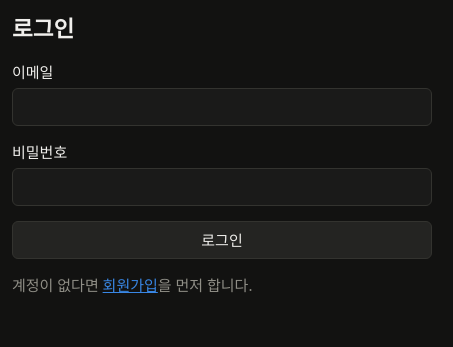
Test case: LoginPage › 401이면 어느 칸이 틀렸는지 알려 주지 않는 메시지를 보여 주고 비밀번호를 지운다
Type "reader@example.com" into the field labelled "이메일" at (222, 107), box [12,88,432,126]
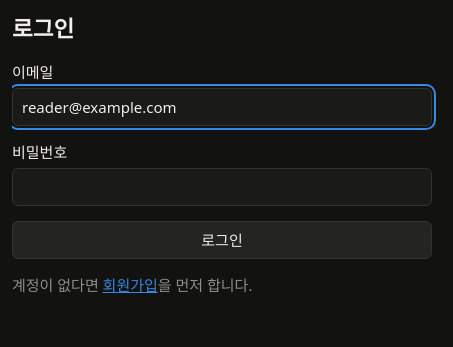
Type "wrong" into the password field labelled "비밀번호" at (222, 187), box [12,168,432,206]
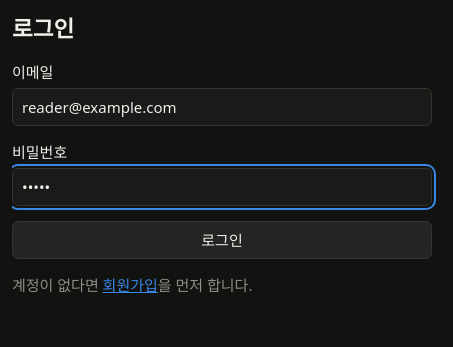
Click the button "로그인" at (222, 240), box [12,221,432,259]
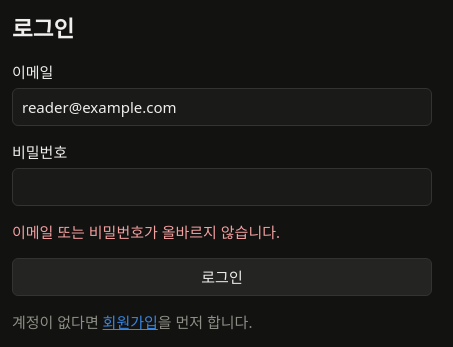
Check: the message reads "이메일 또는 비밀번호가 올바르지 않습니다.", box [12,222,280,242]
Check: the password field labelled "비밀번호" is empty, box [12,168,432,206]
